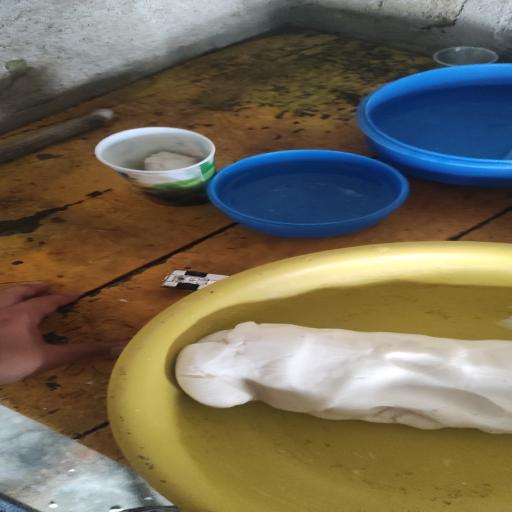Carrito: (162, 270, 228, 291)
